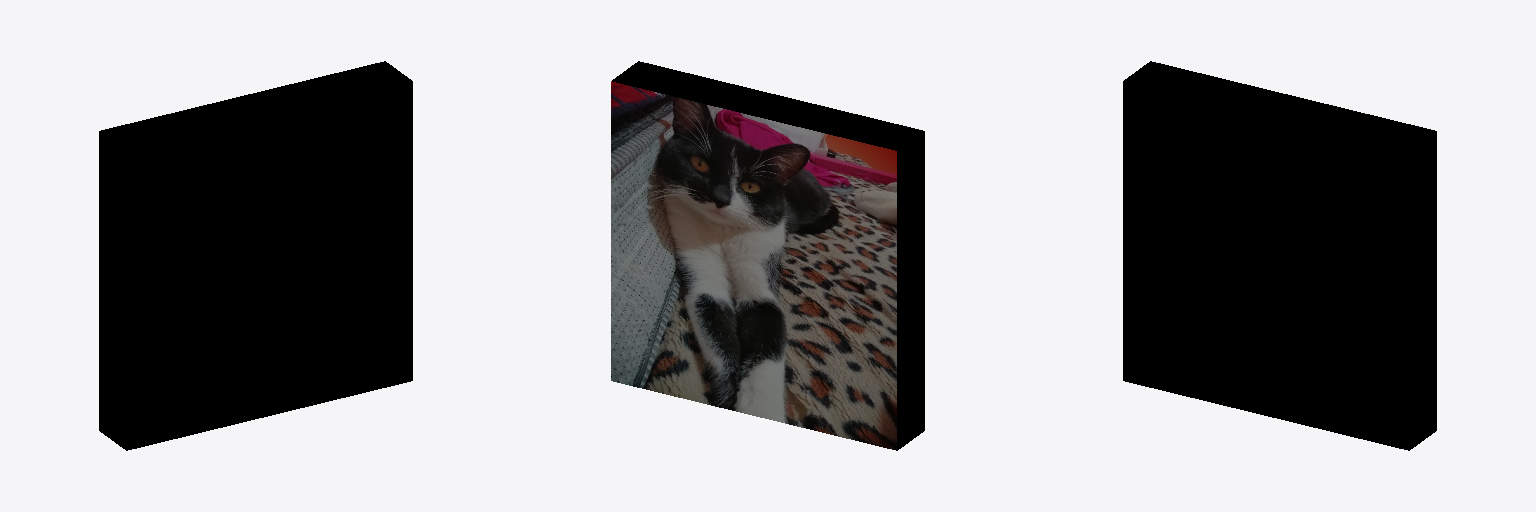
3 views of the same model, side by side, from view 1: azimuth 30°, elevation 25°; view 2: azimuth 150°, elevation 25°; view 3: azimuth 330°, elevation 25° (orthographic).
Visible parts, largest first — view 1: Box001; view 2: Box001; view 3: Box001.
Part boxes in pixels (left/top/right/bottom): Box001: left=99, top=61, right=412, bottom=450; Box001: left=611, top=61, right=924, bottom=450; Box001: left=1123, top=61, right=1436, bottom=450.
Size of the model in its own units: 6 by 6 by 1.
Materials: 2 (2 with a texture image).